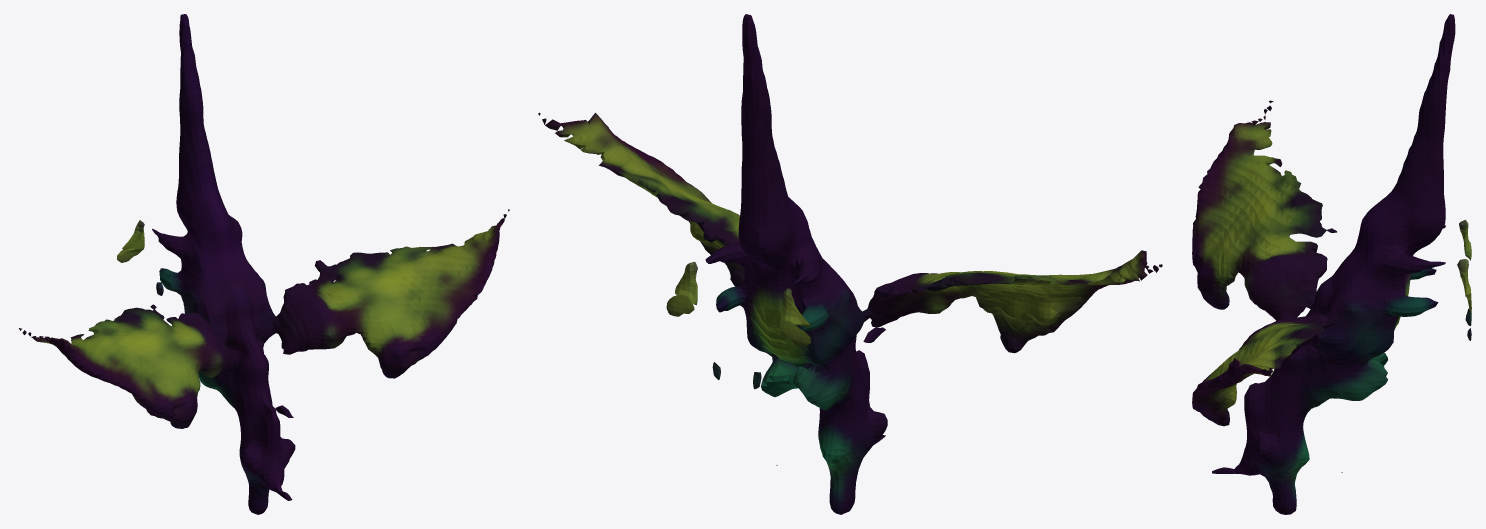
File: example_mesh_dra_0.obj
3 views of the same model, side by side, from view 1: azimuth 30°, elevation 25°; view 2: azimuth 150°, elevation 25°; view 3: azimuth 270°, elevation 25° (orthographic). The views are drawn at different scales.
Size of the model in its own units: 1.93 by 1.66 by 0.8441.
